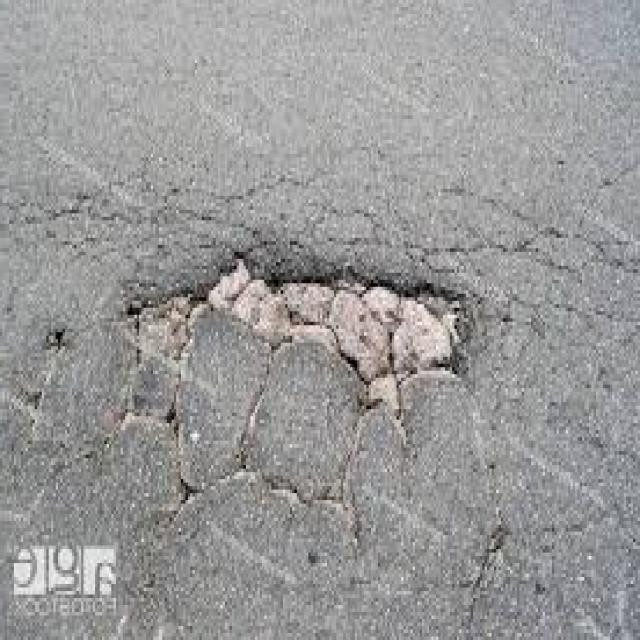pothole: (186, 218, 484, 431)
